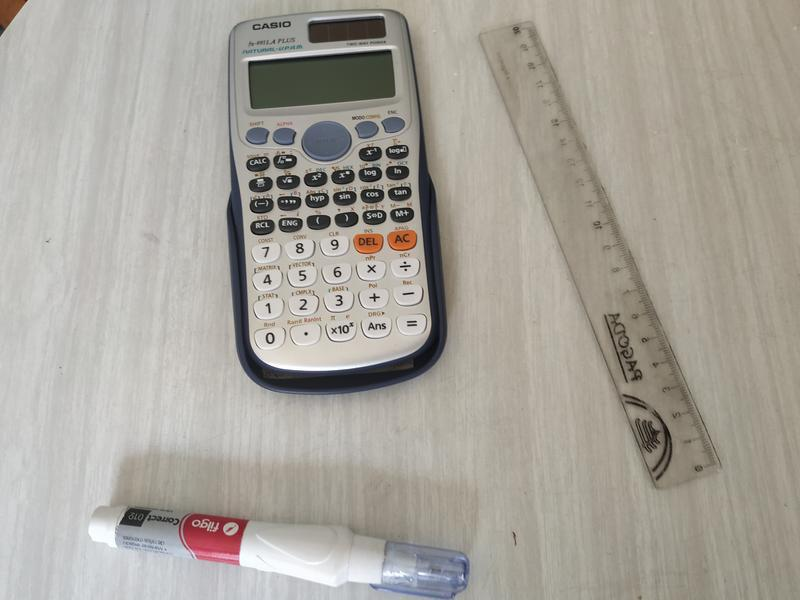calculadora: (217, 6, 458, 394)
corrector: (86, 495, 473, 600)
regla: (474, 14, 729, 495)
